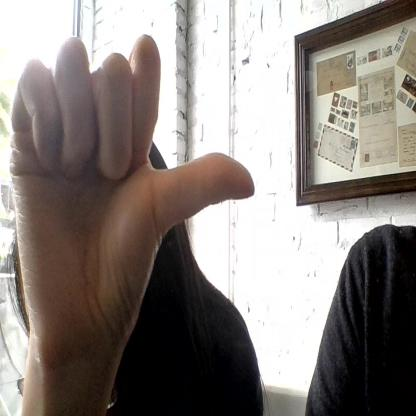left: (10, 33, 255, 328)
